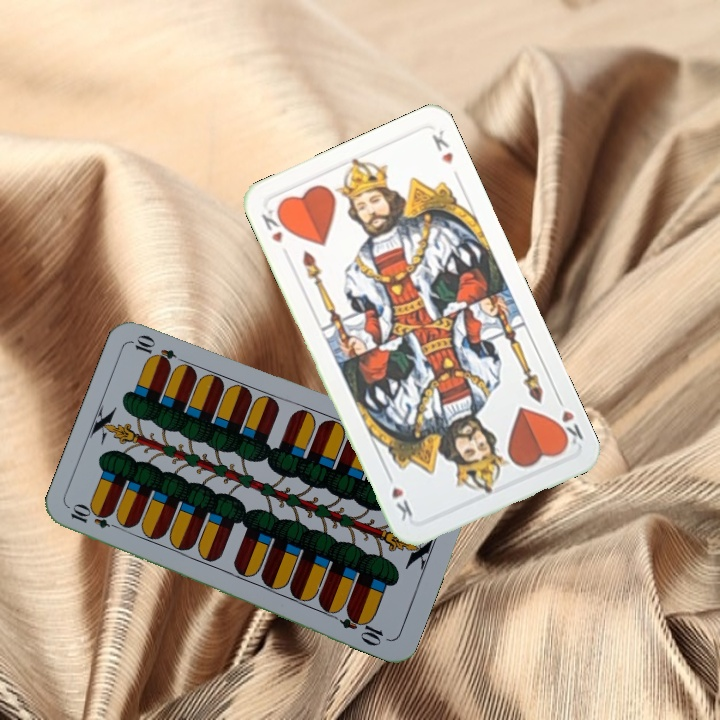E10: (66, 502, 125, 533)
HK: (550, 391, 586, 450), (257, 202, 292, 246)
